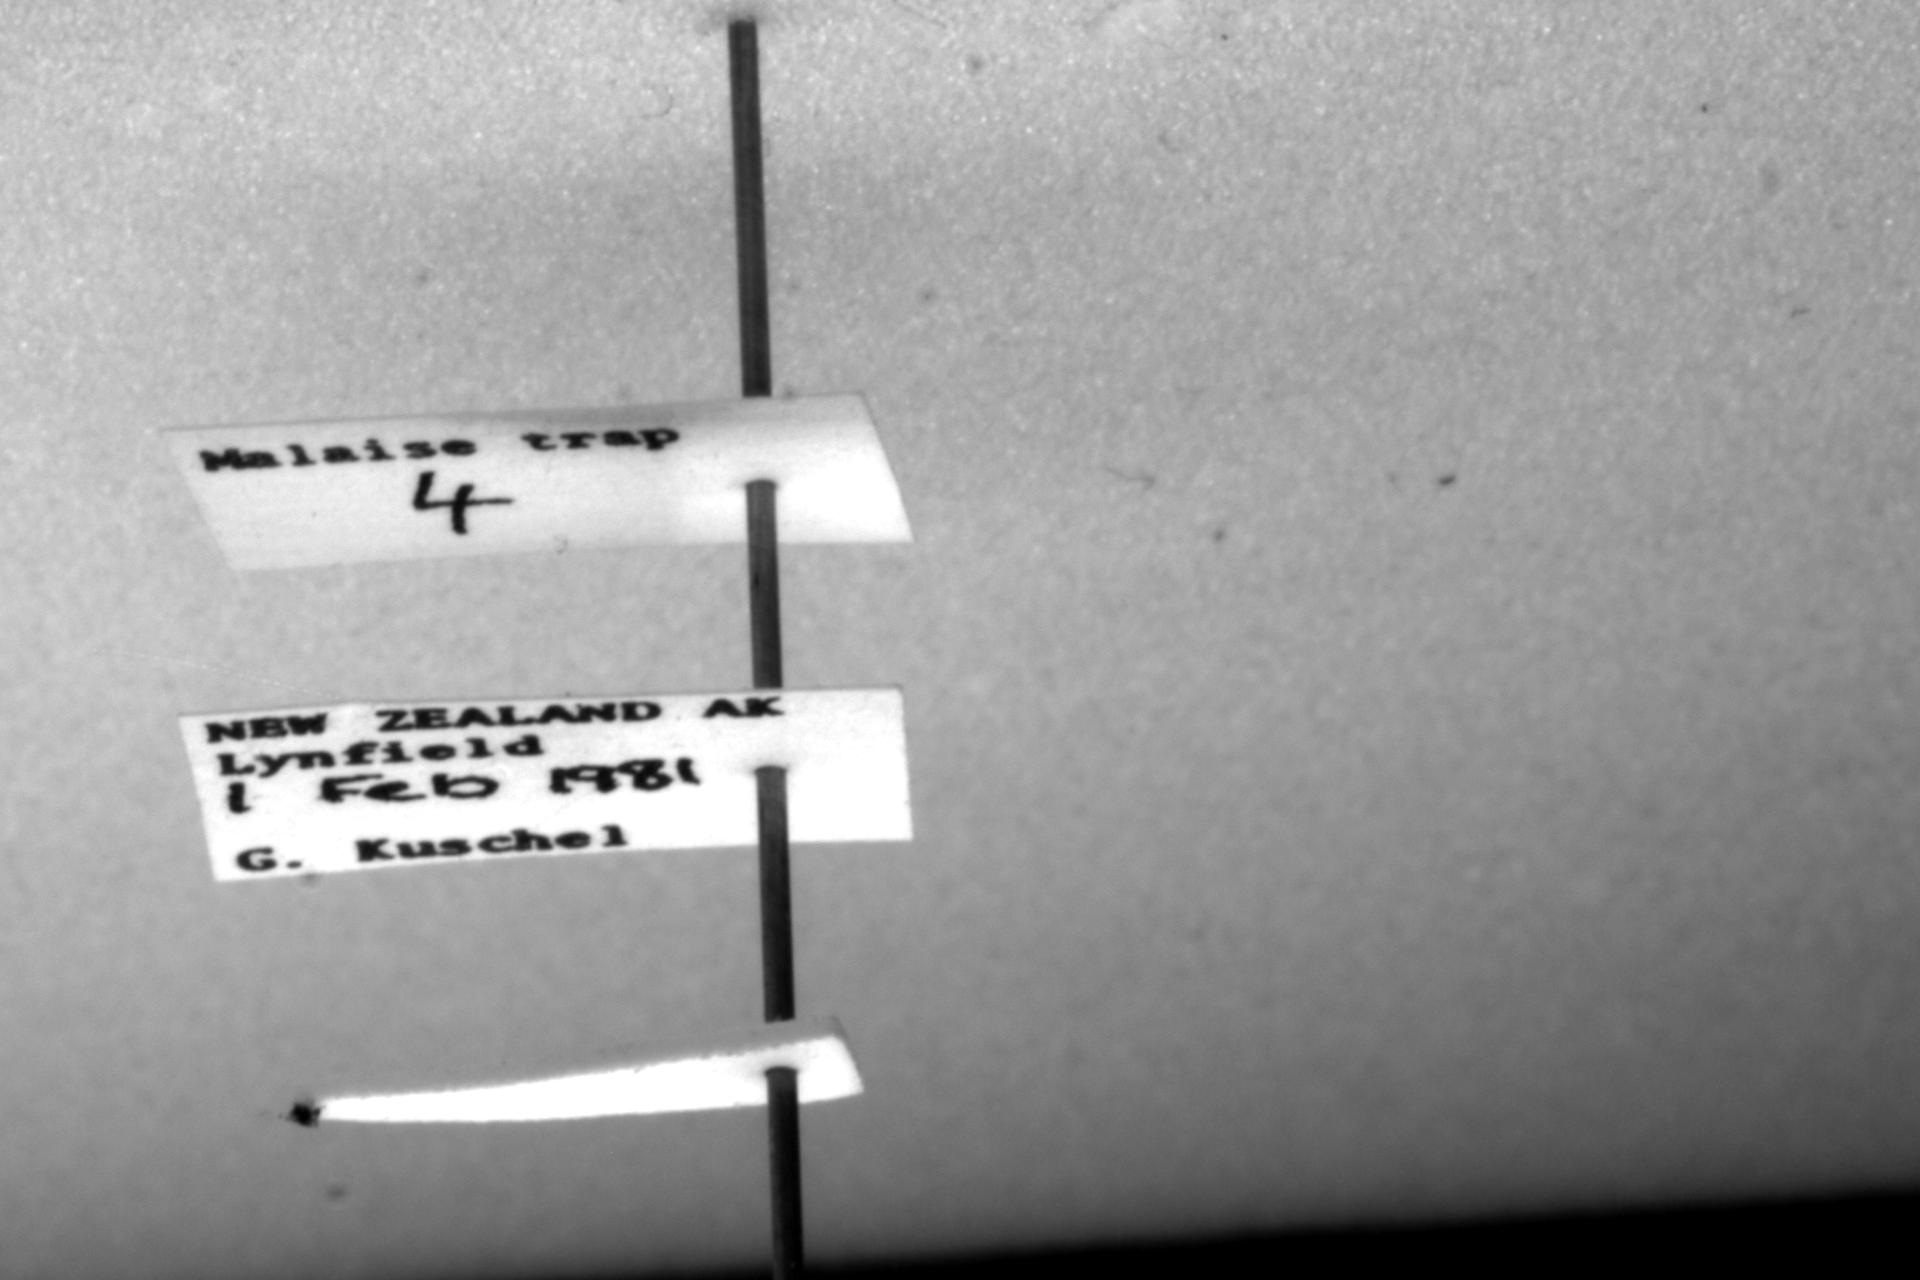hand_label: (180, 686, 911, 881), (166, 394, 911, 570)
